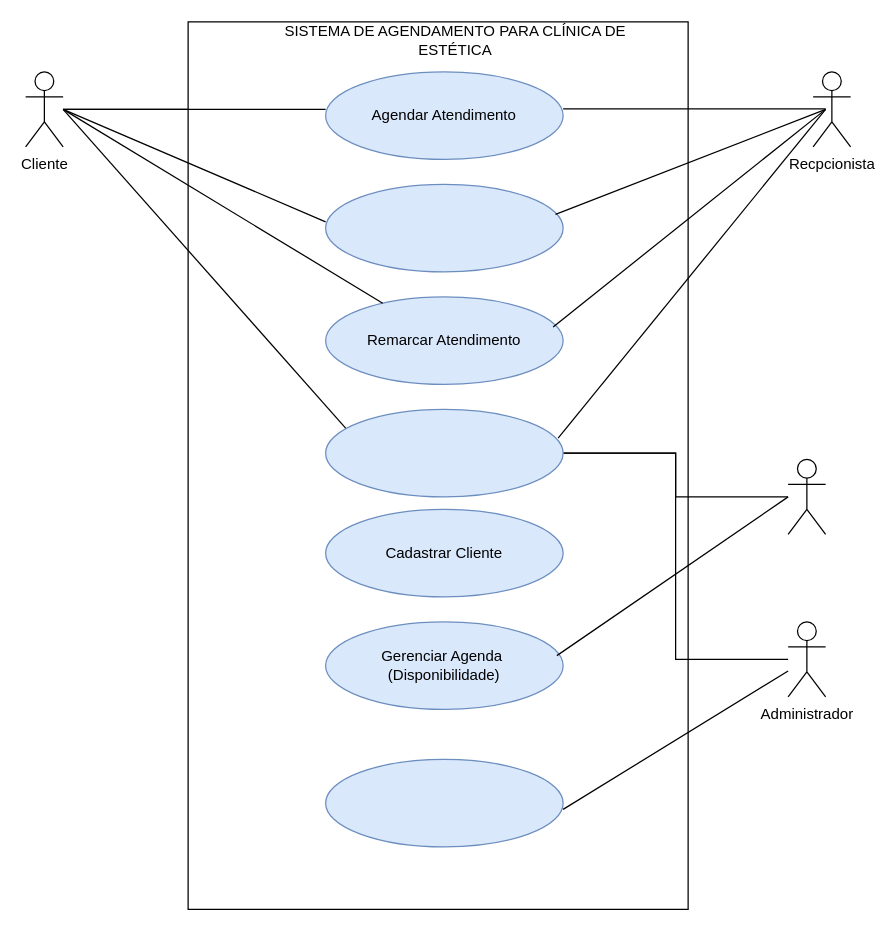
Image size: 896x931. Some labels were removed from this diagram. The centre of each missing label's shape, as x and y in pixels:
"Cadastrar Procedimento Estético" belongs at pixel 443 802.
"Cancelar Atendimento" belongs at pixel 443 227.
"Profissional Estético" belongs at pixel 806 496.
"Visualizar Histórico de Atendimentos" belongs at pixel 443 452.
